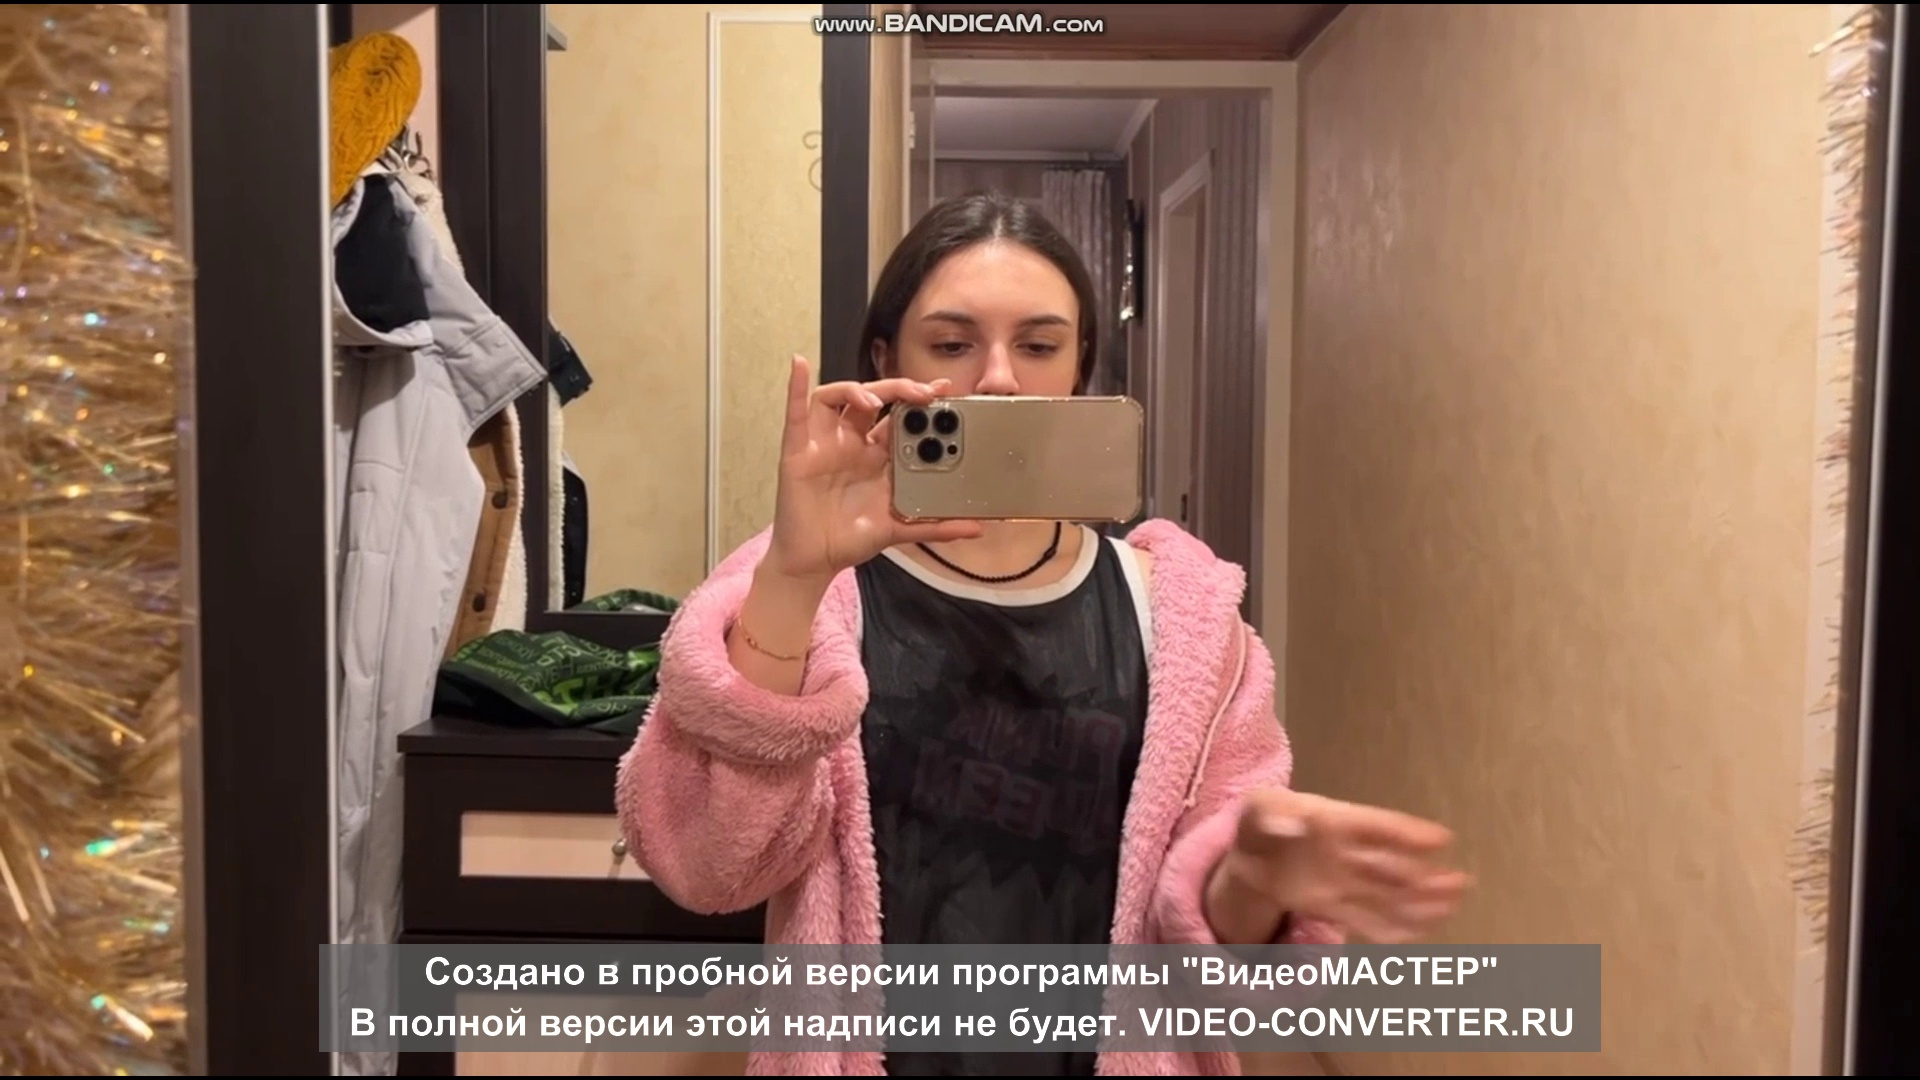Ладонь: (1234, 790, 1470, 944)
